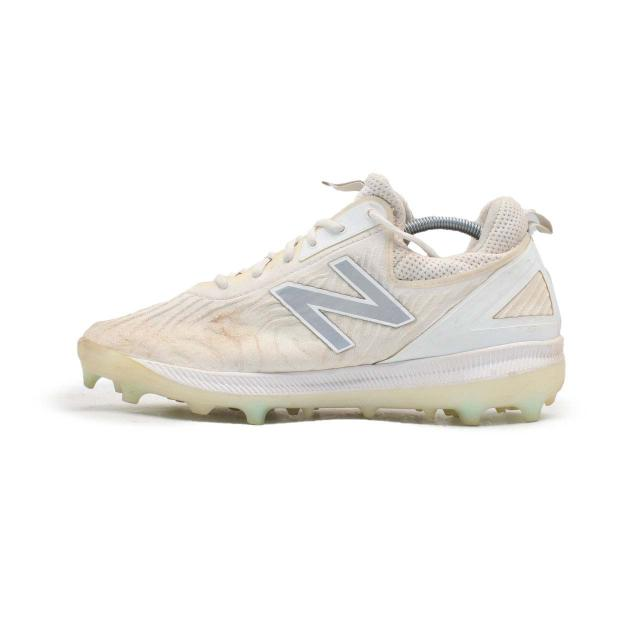heel: (491, 198, 561, 344)
midsole: (80, 338, 566, 427)
uppersole: (79, 178, 524, 374)
